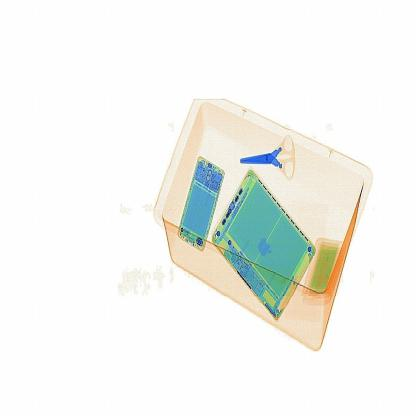gun: (237, 124, 310, 195)
